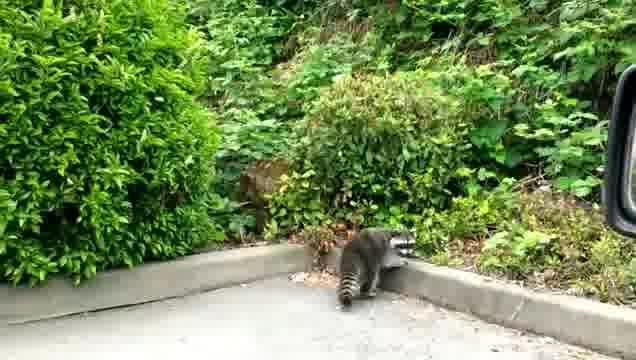raccoon: (339, 226, 420, 308)
